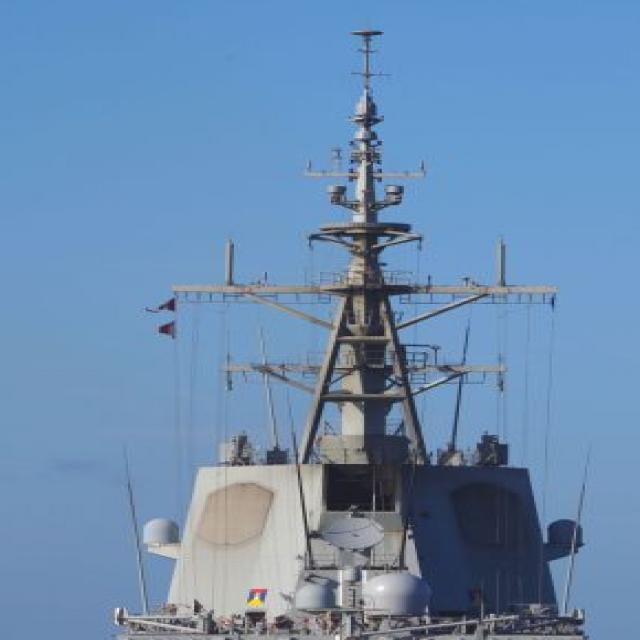Fragata: (65, 1, 615, 640)
